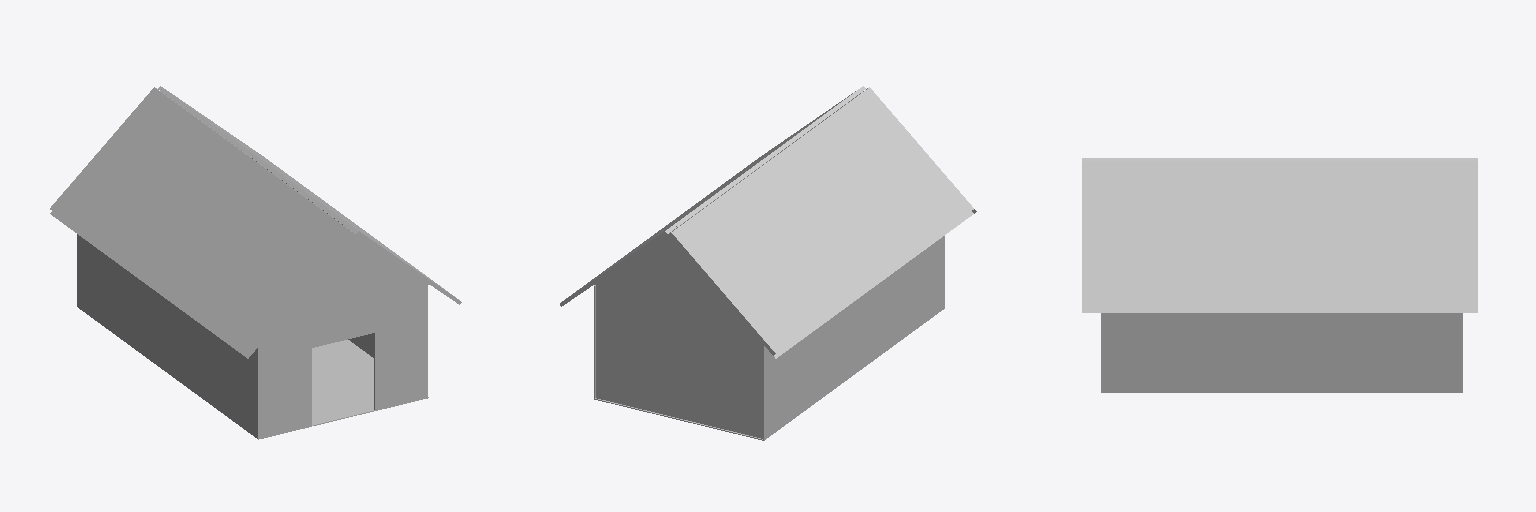
The model's file is StandBateo.obj.
The picture shows the model from 3 angles: view 1: azimuth 30°, elevation 25°; view 2: azimuth 150°, elevation 25°; view 3: azimuth 270°, elevation 25°; orthographic projection.
Visible parts, largest first — view 1: TechoI, ParedI, Rotulo, FrontonD, Piso, ParedDD, ParedDI, TechoD; view 2: TechoI, ParedT, ParedI, FrontonTT, TechoD; view 3: TechoD, ParedD, TechoI.
Boxes of the visible parts, x1=… form: TechoI: x1=50, y1=87, x2=355, y2=358; ParedI: x1=77, y1=234, x2=258, y2=439; Rotulo: x1=259, y1=285, x2=427, y2=360; FrontonD: x1=281, y1=226, x2=429, y2=320; Piso: x1=312, y1=340, x2=428, y2=425; ParedDD: x1=374, y1=320, x2=427, y2=410; ParedDI: x1=259, y1=348, x2=311, y2=438; TechoD: x1=158, y1=86, x2=461, y2=304; TechoI: x1=668, y1=87, x2=976, y2=358; ParedT: x1=596, y1=286, x2=762, y2=438; ParedI: x1=763, y1=236, x2=944, y2=440; FrontonTT: x1=594, y1=226, x2=742, y2=321; TechoD: x1=560, y1=86, x2=865, y2=306; TechoD: x1=1082, y1=161, x2=1477, y2=312; ParedD: x1=1101, y1=313, x2=1462, y2=391; TechoI: x1=1082, y1=158, x2=1477, y2=160.
Bounding box in the file's own units: 24.87 × 20.96 × 38.94.